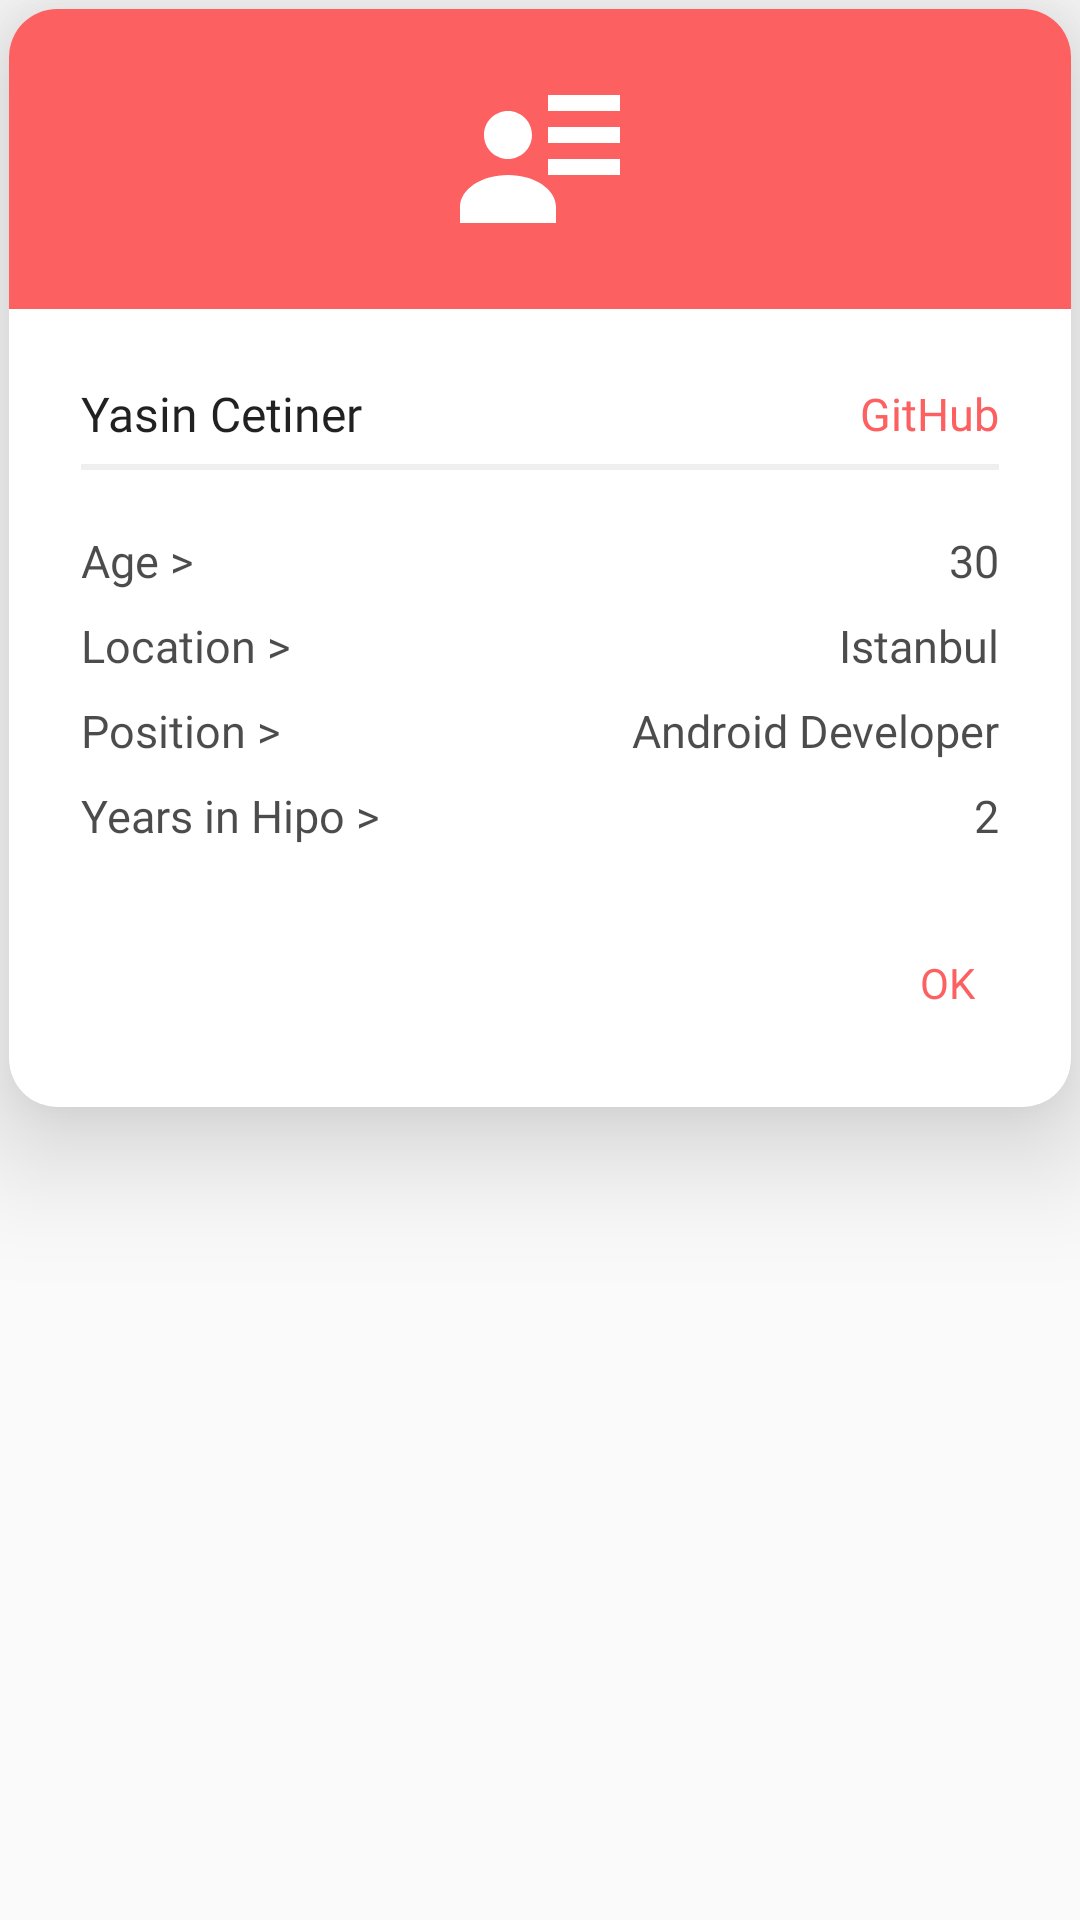

Point at icon controls on the screen. Image size 1080 × 1920, points as [x,y].
details: [540,159]
